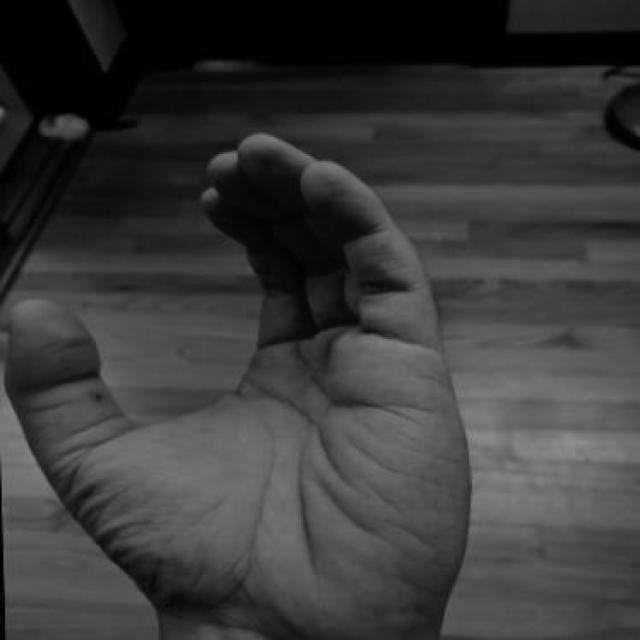C: (0, 123, 488, 638)
